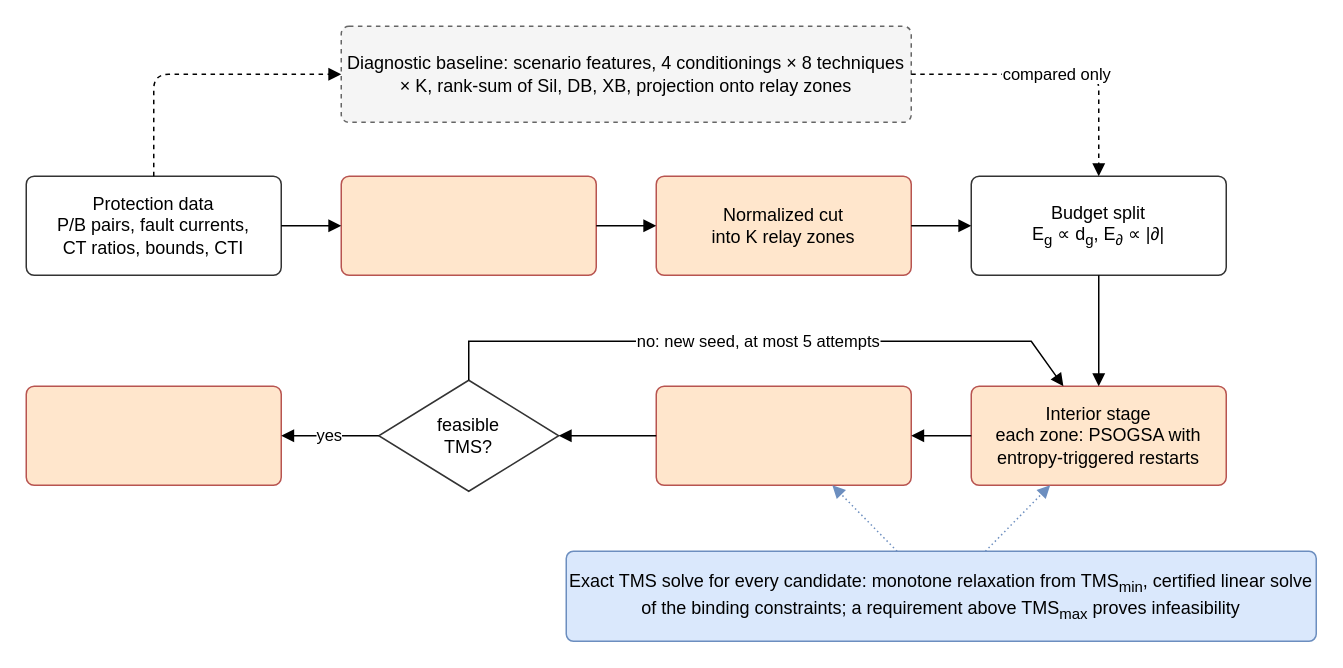
The diagram is 1343 pixels wide and 668 high, and some of its shapes have lost their labels. The centre of each missing label's shape, as x and y in pixels:
Boundary stage relays on cut pairs, all pairs enforced: [783,435]
Coupling graph A ij = P/B pairs linking relays i and j: [468,225]
Discrete settings rounded PS, exact grid TMS, pickup-grid search: [153,435]
